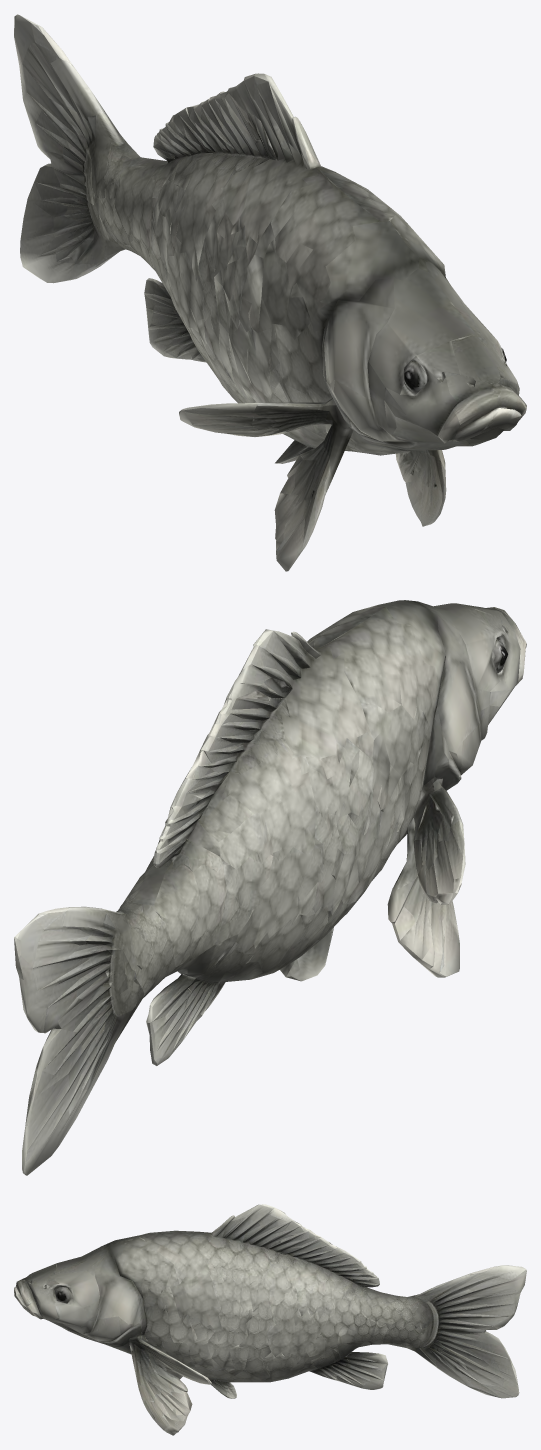
File: quiet.glb
3 renders of one model, top to bottom at view 1: azimuth 30°, elevation 25°; view 2: azimuth 150°, elevation 25°; view 3: azimuth 270°, elevation 25°, orthographic. The views are drawn at different scales.
Bounding box in the file's own units: 0.6529 × 0.914 × 2.
Materials: 1 (1 with a texture image).
